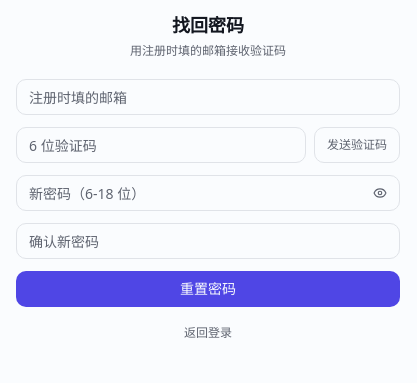
Test: 找回密码页 › 验证码为空时不提交（省一次必然失败的服务端往返）
In the field with placeholder "注册时填的邮箱": point(208, 97) 16,79 -> 400,115, type "a@b.com"
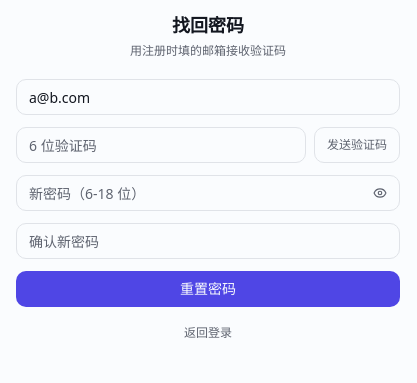
In the password field with placeholder "新密码（6-18 位）": point(208, 193) 16,175 -> 400,211, type "newpass1"
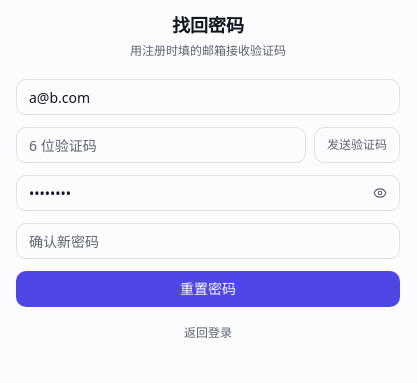
In the password field with placeholder "确认新密码": point(208, 241) 16,223 -> 400,259, type "newpass1"
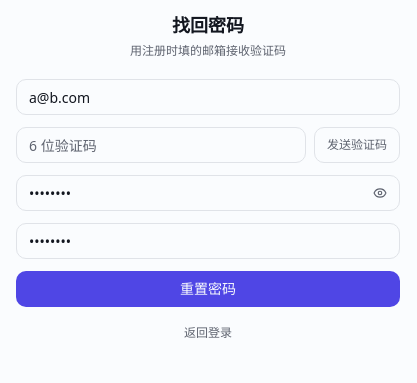
Click the button "重置密码": point(208, 289) 16,271 -> 400,307
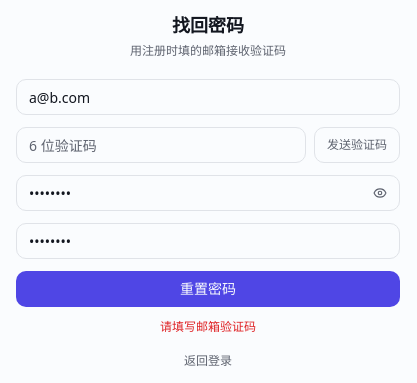
Now the text "请填写邮箱验证码" is shown, box 160,318 -> 256,335
